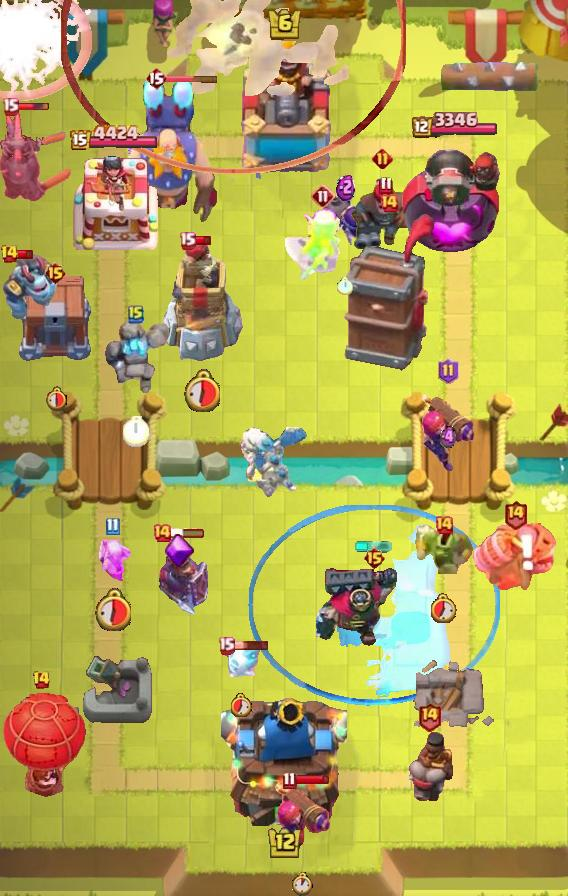barbarian-evolution: (0, 0, 94, 100)
bat: (220, 643, 262, 679)
bomb: (16, 276, 94, 362)
cannon-cart: (0, 688, 90, 798)
dart-goblin: (345, 213, 436, 371)
electro-spirit: (336, 173, 356, 201), (440, 425, 456, 450)
elite-barbarian: (403, 729, 455, 803)
elixir: (184, 369, 221, 412), (93, 589, 130, 632), (123, 417, 150, 448), (431, 593, 457, 623), (45, 385, 68, 410), (290, 872, 313, 896), (231, 693, 252, 717), (337, 277, 353, 295)
elixir-golem-big: (139, 535, 211, 619)
elixir-golem-small: (0, 252, 60, 322)
emote: (165, 74, 219, 83), (233, 639, 271, 651), (170, 527, 206, 539), (294, 774, 330, 786), (16, 102, 50, 112), (193, 234, 212, 245), (15, 248, 34, 259)
flying-machine: (414, 524, 474, 574)
goblin-ball: (322, 191, 368, 249)
golemite: (0, 110, 72, 204)
ice-spirit: (354, 541, 394, 553)
inferno-tower: (316, 564, 432, 648)
king-tower: (221, 690, 347, 826), (228, 41, 340, 181)
little-prince: (116, 78, 220, 226)
mega-minion: (418, 389, 478, 475), (272, 777, 332, 857)
mini-pekka: (238, 424, 312, 500)
minion: (439, 61, 541, 97)
night-witch: (470, 523, 560, 597)
pad_0: (247, 505, 501, 707)
phoenix-small: (348, 174, 416, 252)
poison: (283, 203, 363, 283)
queen-tower: (67, 152, 161, 256)
royal-ghost: (62, 0, 406, 174)
selected: (69, 124, 159, 153), (409, 112, 497, 140)
skeleton-king-skill: (163, 532, 196, 570)
text: (504, 499, 529, 530), (417, 700, 442, 731), (311, 184, 335, 208), (45, 261, 68, 285), (363, 546, 386, 570), (437, 358, 458, 384), (145, 66, 167, 90), (371, 147, 392, 168), (379, 193, 399, 213), (434, 515, 454, 535), (152, 523, 172, 543), (1, 244, 20, 264), (33, 670, 52, 690), (179, 231, 197, 249), (2, 97, 19, 116), (128, 304, 144, 324), (217, 637, 234, 655), (282, 771, 297, 790), (105, 517, 119, 536)
tower-bar: (401, 138, 505, 256)
valkyrie-evolution: (99, 318, 173, 400)
zap: (93, 537, 131, 583)
zappy: (160, 241, 245, 365)
